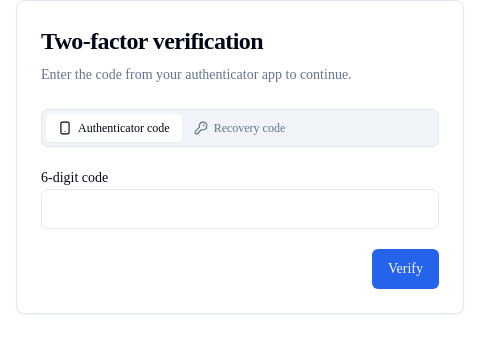
Test case: MfaChallenge › shows "not accepted" when success:false is returned
The image size is (481, 363).
Type "123456" into the field with test id "mfa-challenge-input" at (240, 209), box [41,189,439,229]
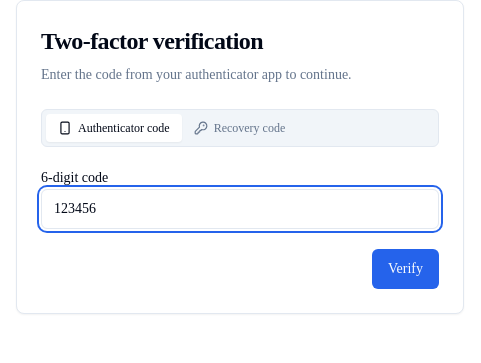
Click the button with test id "mfa-challenge-submit" at (406, 269), box [372,249,439,289]
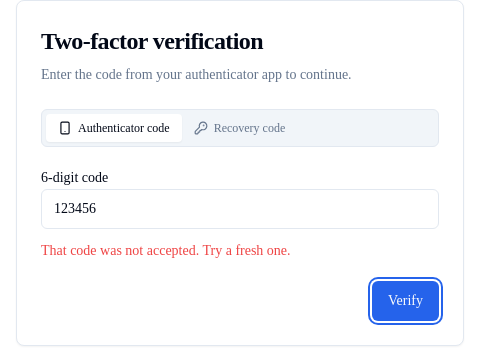
expect the message with test id "mfa-challenge-error" shows "not accepted": met, box [41,243,291,258]
